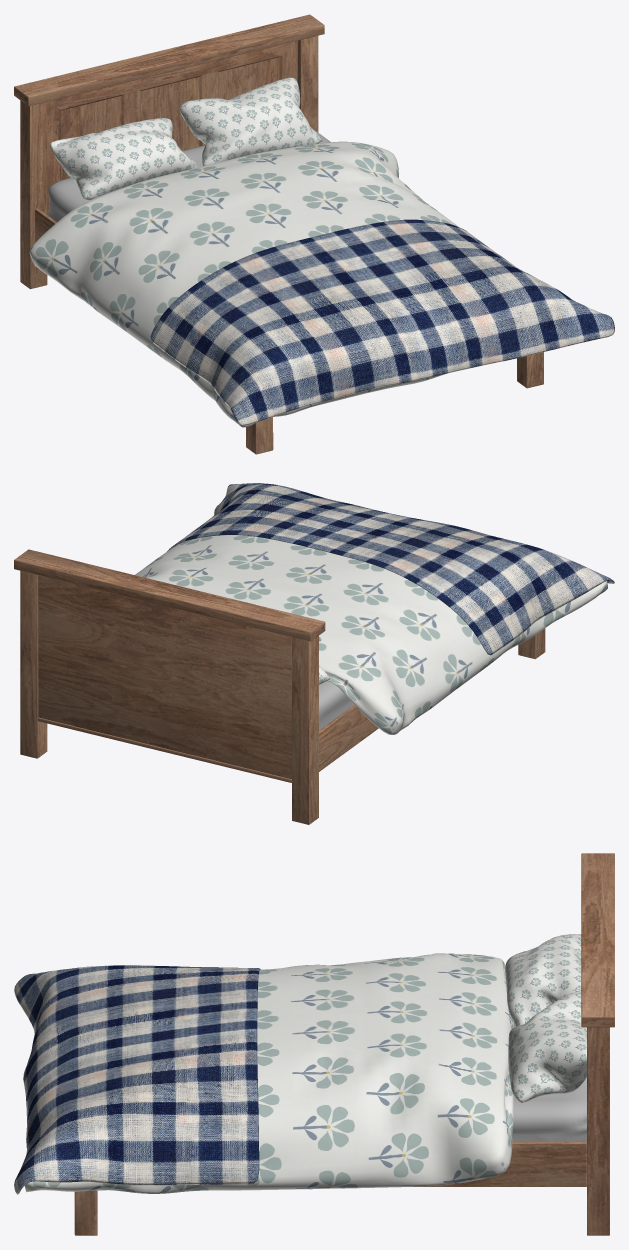
3 renders of one model, top to bottom at view 1: azimuth 30°, elevation 25°; view 2: azimuth 150°, elevation 25°; view 3: azimuth 270°, elevation 25°, orthographic. The views are drawn at different scales.
Parts seen in each view (by area): view 1: Object_123, Object_121, Object_117, Object_119; view 2: Object_117, Object_121, Object_123, Object_119; view 3: Object_121, Object_123, Object_117, Object_119.
Boxes of the visible parts, x1=… form: Object_123: x1=150, y1=219, x2=614, y2=425; Object_121: x1=29, y1=77, x2=458, y2=427; Object_117: x1=14, y1=14, x2=543, y2=454; Object_119: x1=48, y1=130, x2=330, y2=222; Object_117: x1=14, y1=549, x2=545, y2=824; Object_121: x1=135, y1=535, x2=607, y2=734; Object_123: x1=167, y1=483, x2=614, y2=655; Object_119: x1=319, y1=681, x2=354, y2=730; Object_121: x1=24, y1=934, x2=586, y2=1193; Object_123: x1=14, y1=965, x2=260, y2=1194; Object_117: x1=74, y1=853, x2=614, y2=1235; Object_119: x1=512, y1=1026, x2=586, y2=1141.
Bounding box in the file's own units: 1.95 × 0.9587 × 2.36.
4 materials, 3 textured.
